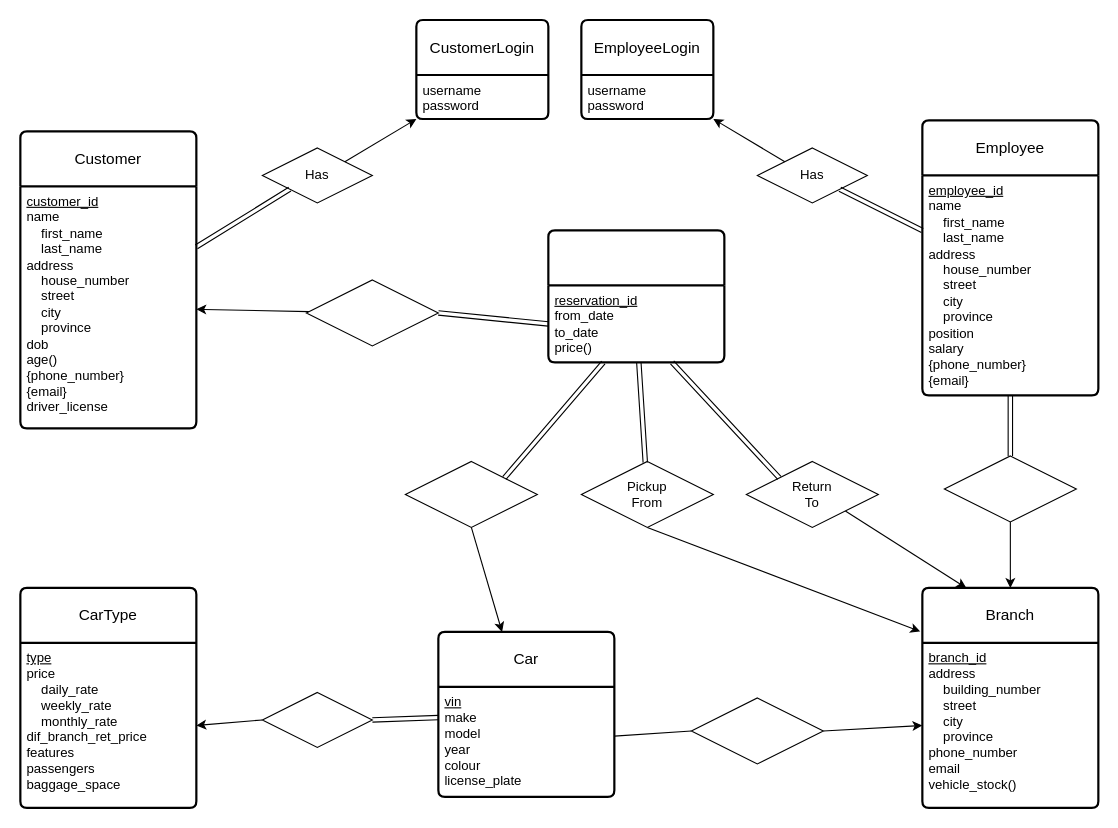
Image size: 1118x828. Some labels were removed from this diagram. Each missing label, with the box of its shape:
Belongs To: (261, 691, 372, 747)
Current Branch: (690, 697, 823, 764)
Features: (404, 460, 537, 527)
Rental: (547, 229, 725, 363)
Rental Customer: (305, 279, 438, 346)
Works At: (943, 455, 1076, 522)
